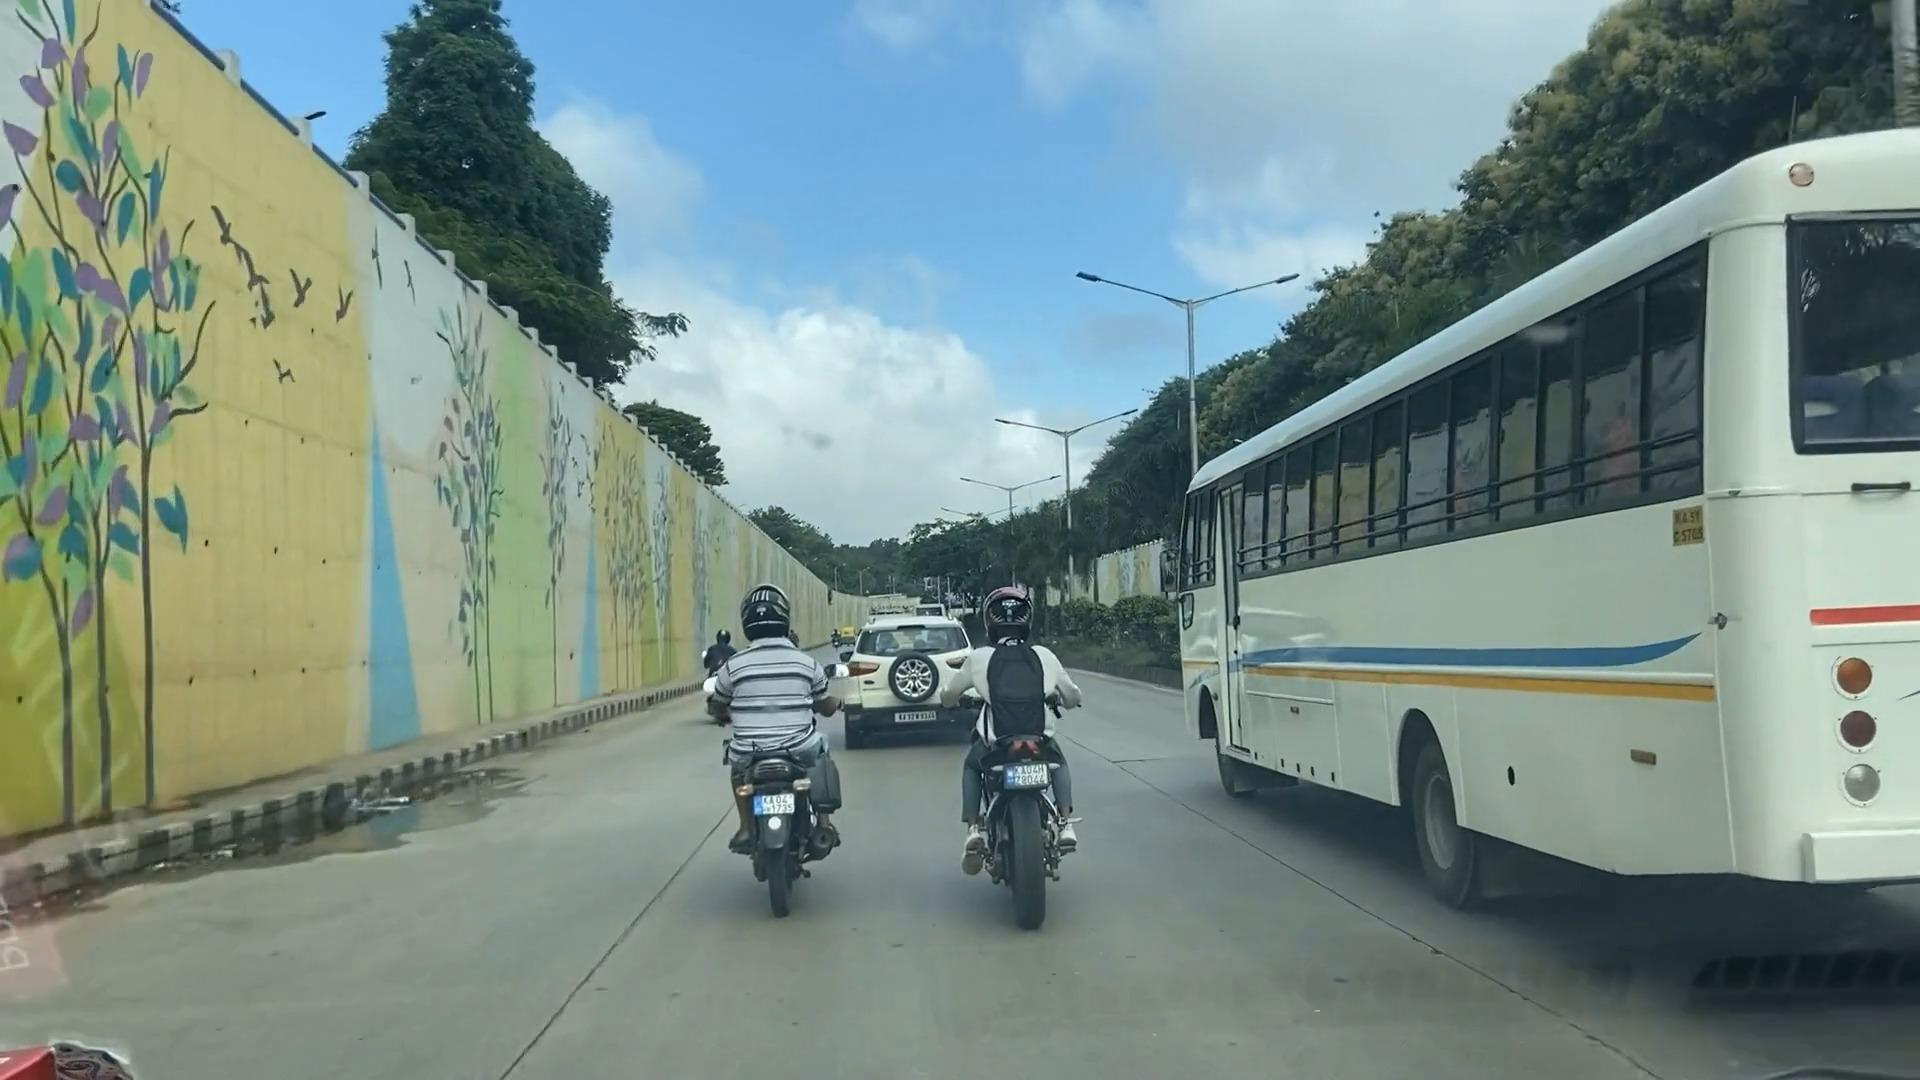HMV: (1178, 174, 1920, 860)
LMV: (948, 601, 1068, 899), (738, 612, 847, 855), (849, 622, 963, 742)
